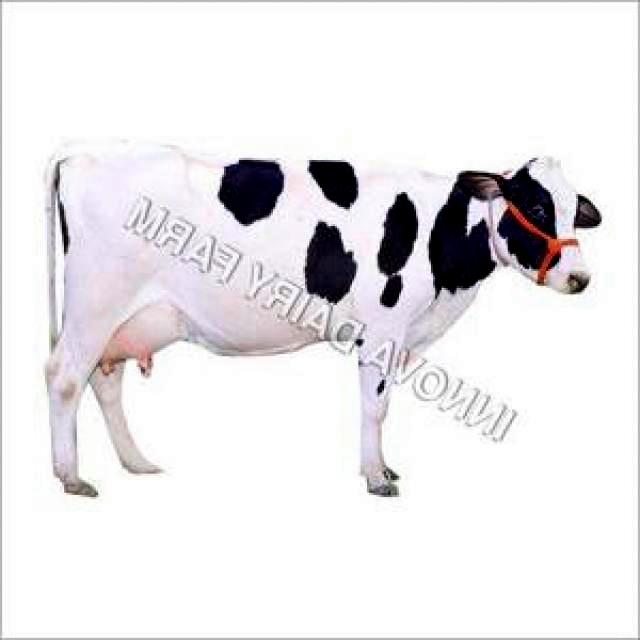COW: (46, 144, 601, 496)
